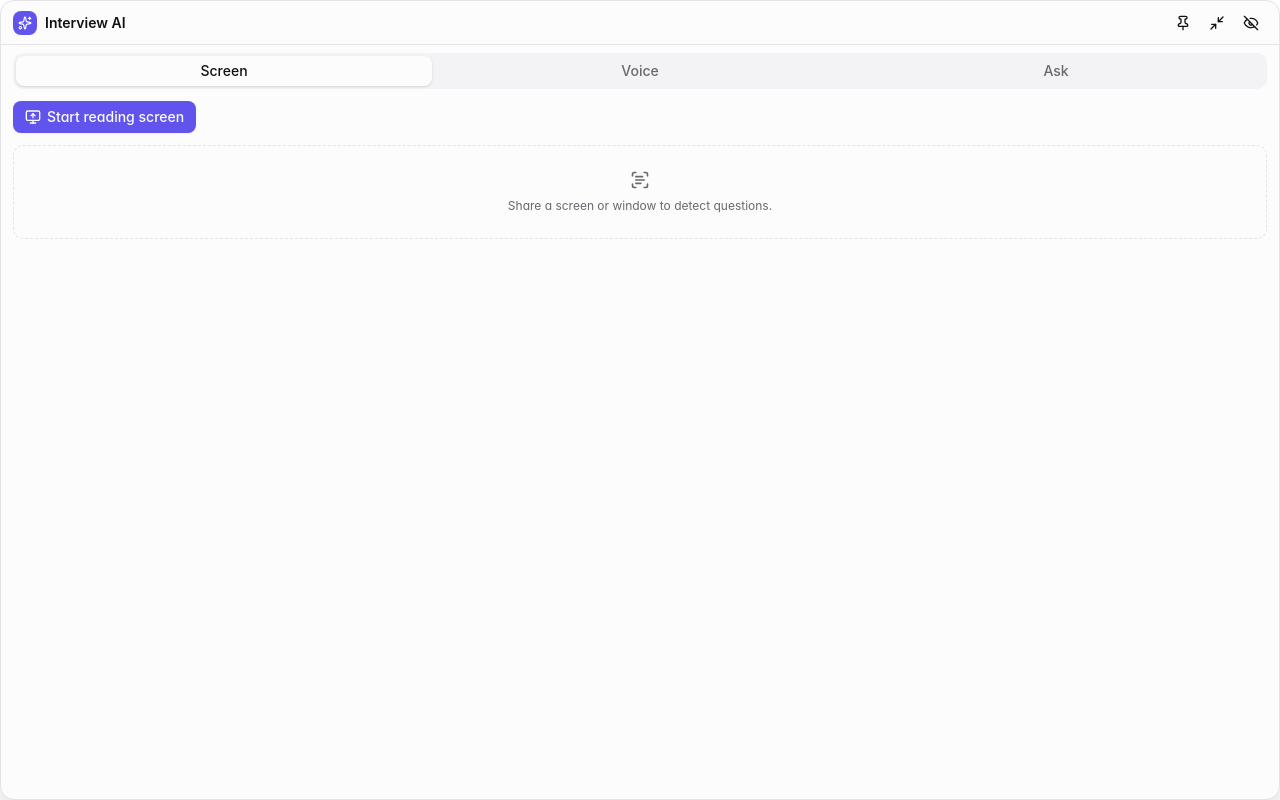
Test case: Desktop assistant (inside Electron) › reports microphone use to the shell (tray indicator) and keeps recording across tabs
The image size is (1280, 800).
Later steps or results of the test are not shown.
Click the tab "Voice" at (640, 71), box [432,56,848,86]
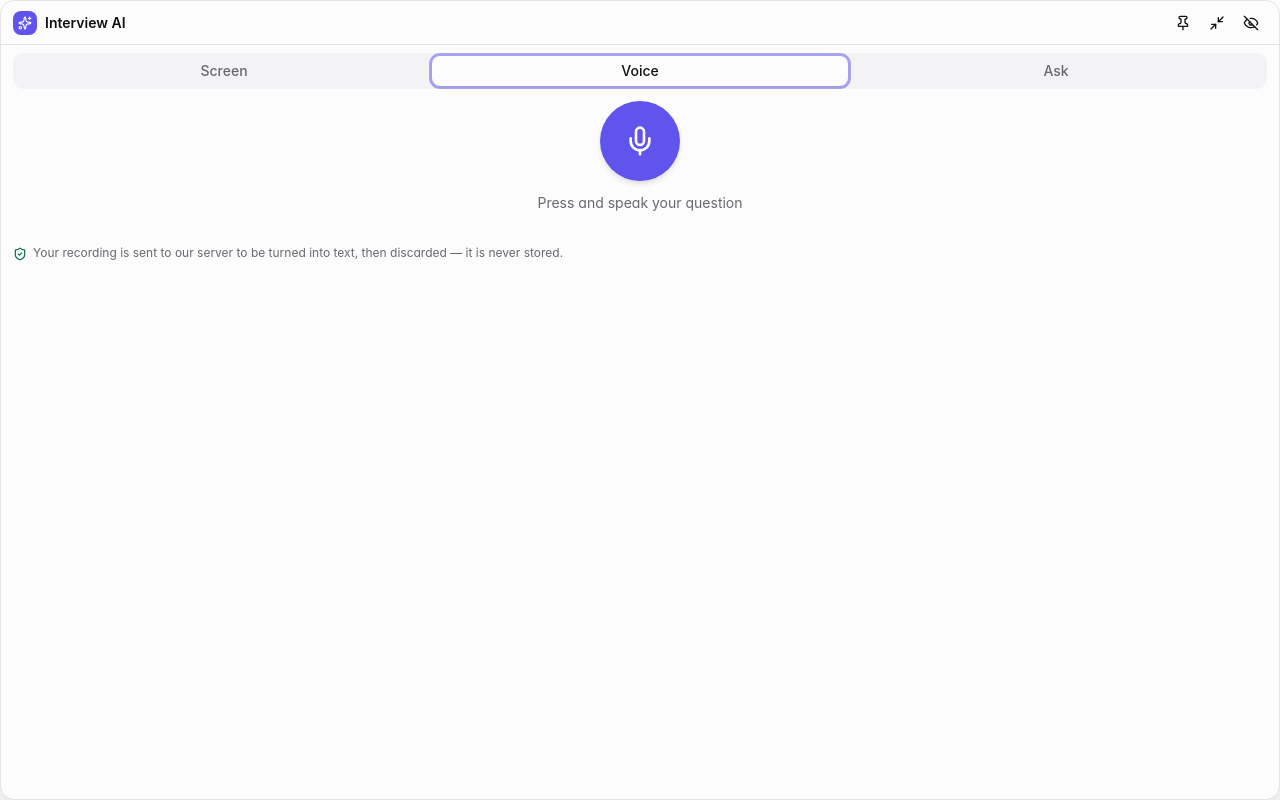
Click the button named "Start listening" at (640, 141), box [600,101,680,181]
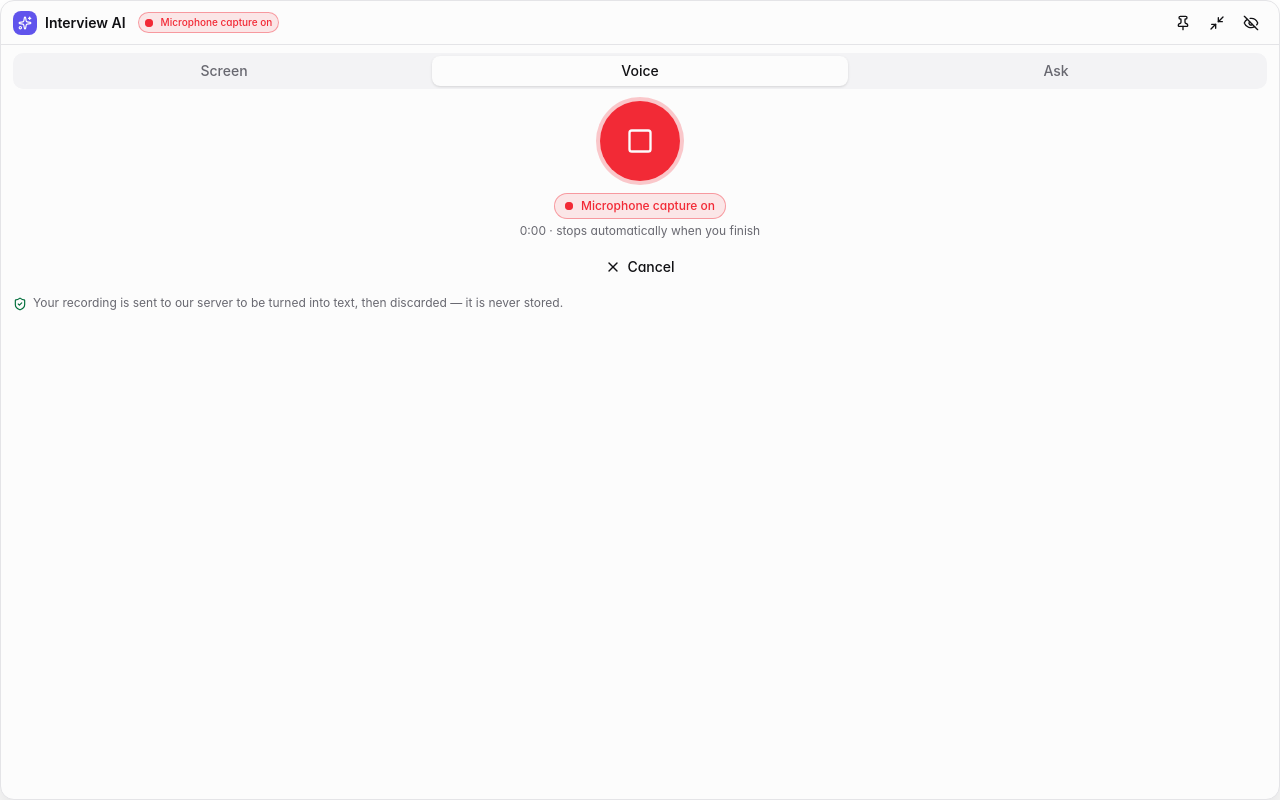
Result: the text "Microphone capture on" next to "Interview AI" is shown at [138,12,279,33]
